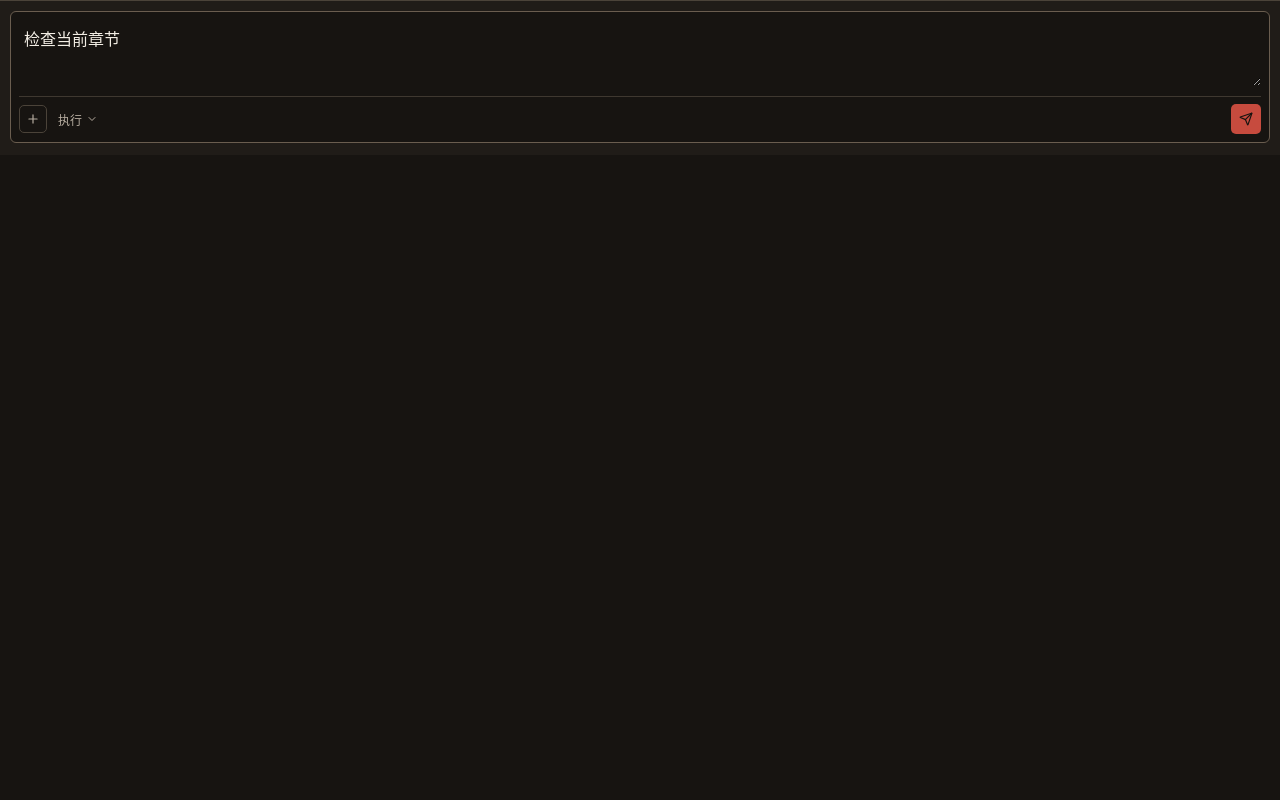
Test: AgentComposer › keeps permission details closed by default and reveals a concise safety summary on demand
The image size is (1280, 800).
Step 1. Click the button named "添加引用与执行审批" → [33, 119], box [19,105,47,133]
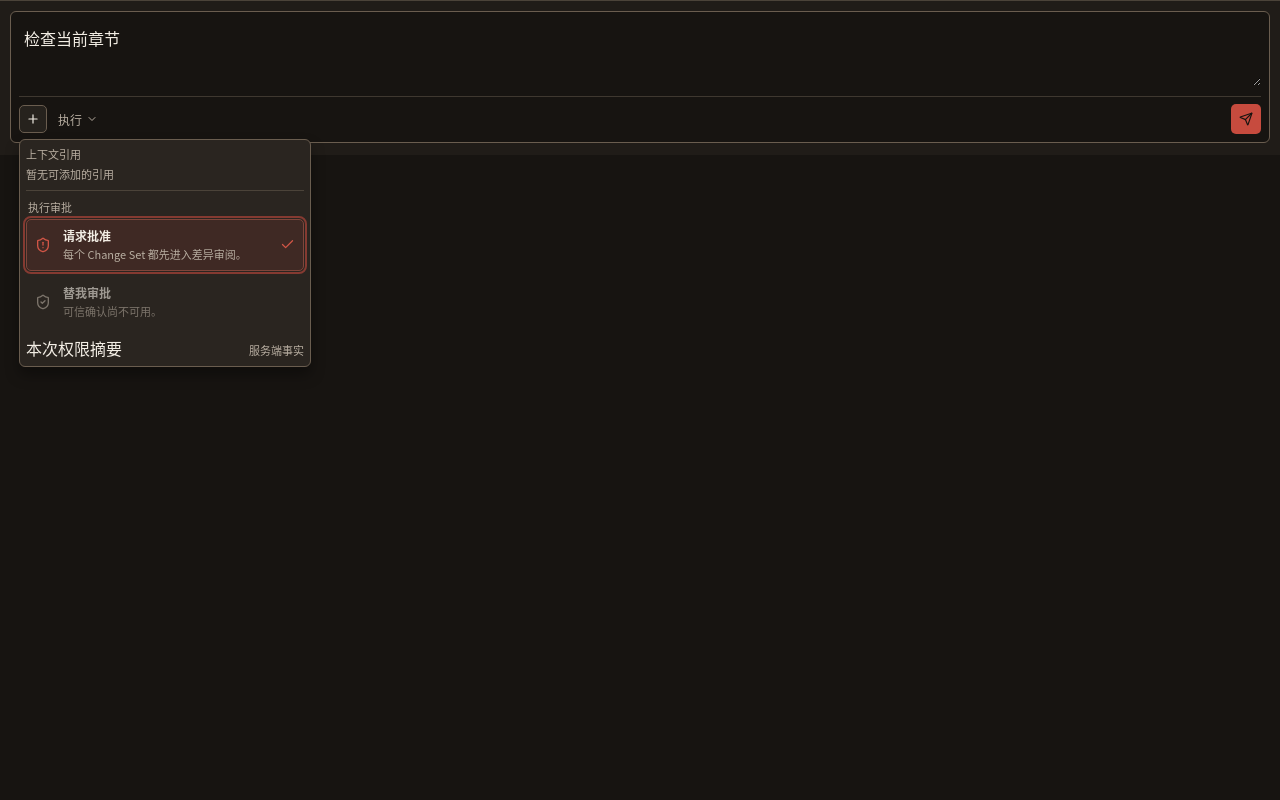
Result: the element named "执行审批" shows "请求批准" at [63,227,111,244]
Result: the element named "执行审批" shows "替我审批" at [63,284,111,301]
Result: the number of icons with class "ns-agent-permission-choice-icon" is 2 at [35,237,51,253]; [35,294,51,310]
Step 2. Click the heading "本次权限摘要 服务端事实" → [74, 348], box [26,336,304,360]
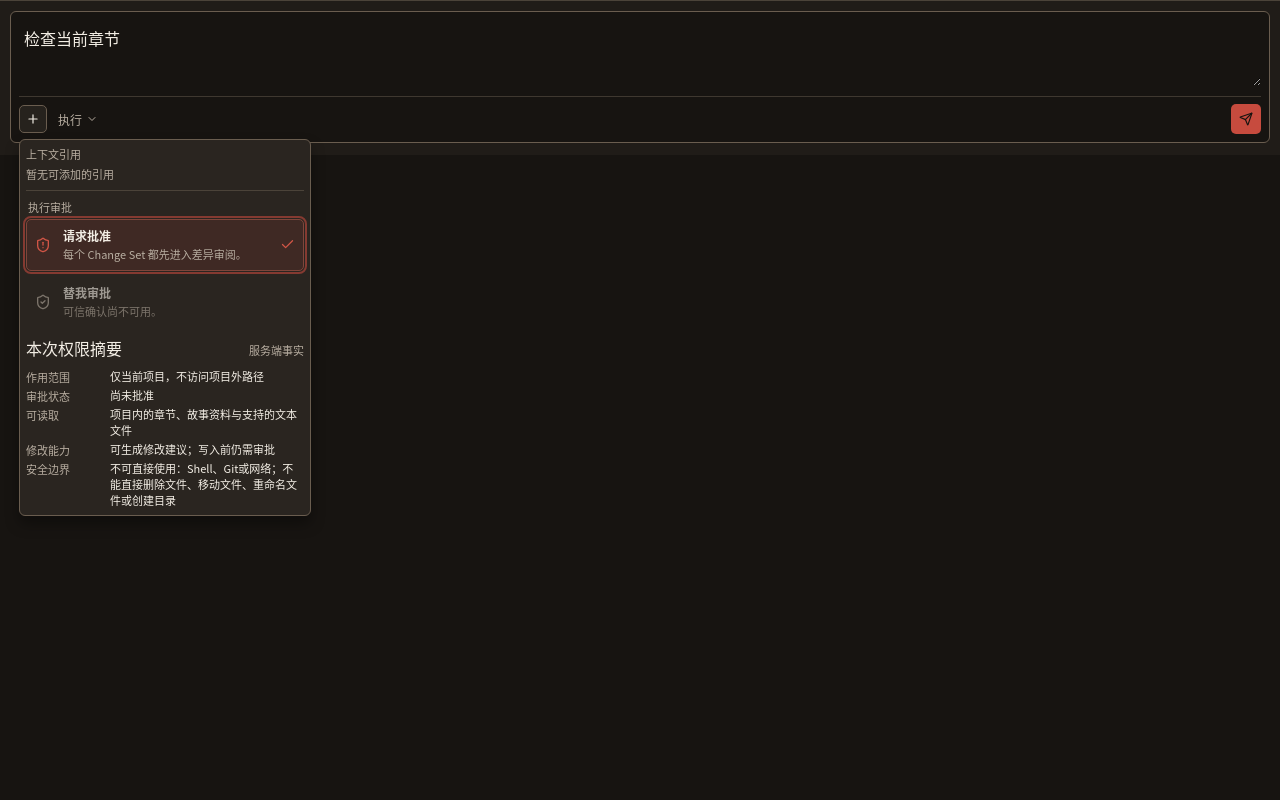
Result: the element named "本次权限摘要" shows "仅当前项目，不访问项目外路径" at [110,368,264,384]
Result: the element named "本次权限摘要" shows "尚未批准" at [110,387,154,403]
Result: the element named "本次权限摘要" shows "项目内的章节、故事资料与支持的文本文件" at [110,406,297,438]
